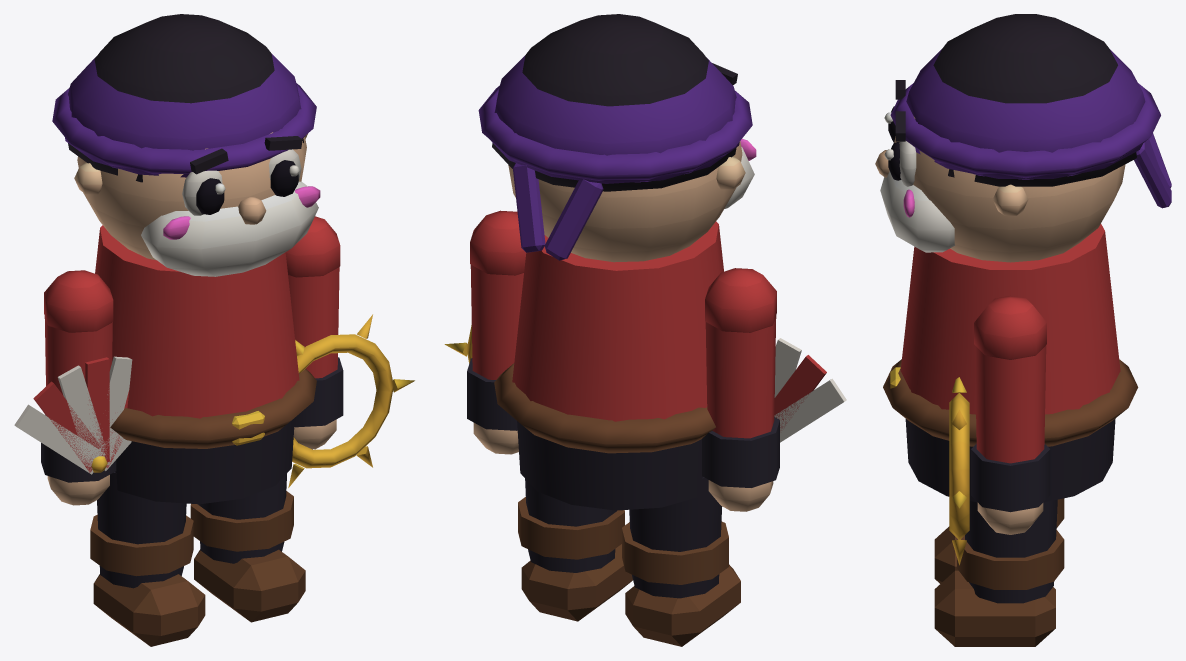
The model's file is hero_harlequin.glb.
The picture shows the model from 3 angles, left to right: view 1: azimuth 30°, elevation 25°; view 2: azimuth 150°, elevation 25°; view 3: azimuth 270°, elevation 25°; orthographic projection. The views are drawn at different scales.
Parts seen in each view (by area): view 1: body_t0_palette, arml_t0_palette, armr_t0_palette, legl_t0_palette, legr_t0_palette; view 2: body_t0_palette, arml_t0_palette, legl_t0_palette, legr_t0_palette, armr_t0_palette; view 3: body_t0_palette, armr_t0_palette, legr_t0_palette, legl_t0_palette.
Part boxes in pixels (bbox=[...]): body_t0_palette: bbox=[52, 14, 320, 504]; arml_t0_palette: bbox=[14, 270, 132, 505]; armr_t0_palette: bbox=[285, 216, 414, 487]; legl_t0_palette: bbox=[90, 472, 205, 646]; legr_t0_palette: bbox=[190, 474, 305, 622]; body_t0_palette: bbox=[478, 14, 756, 510]; arml_t0_palette: bbox=[702, 268, 846, 511]; legl_t0_palette: bbox=[622, 477, 740, 646]; legr_t0_palette: bbox=[518, 478, 632, 621]; armr_t0_palette: bbox=[444, 210, 526, 454]; body_t0_palette: bbox=[875, 14, 1171, 502]; armr_t0_palette: bbox=[949, 295, 1050, 565]; legr_t0_palette: bbox=[934, 499, 1064, 646]; legl_t0_palette: bbox=[934, 498, 1064, 583].
Size of the model in its own units: 0.3614 by 0.508 by 0.2322.
